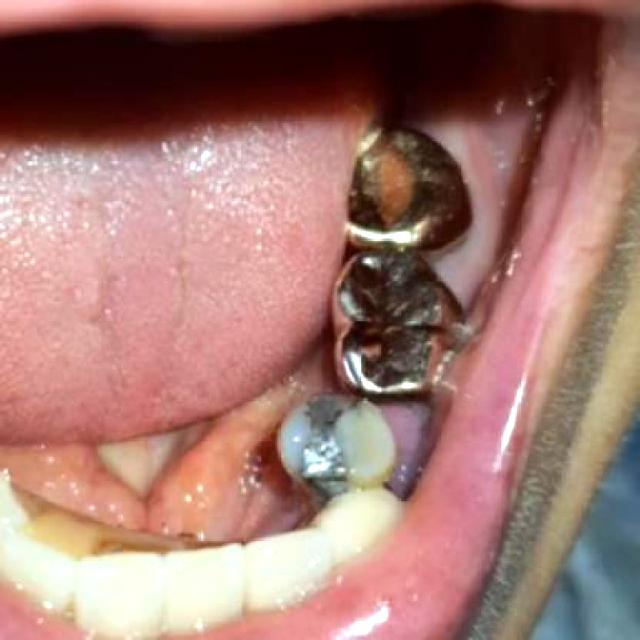Plaque: (280, 394, 377, 488)
